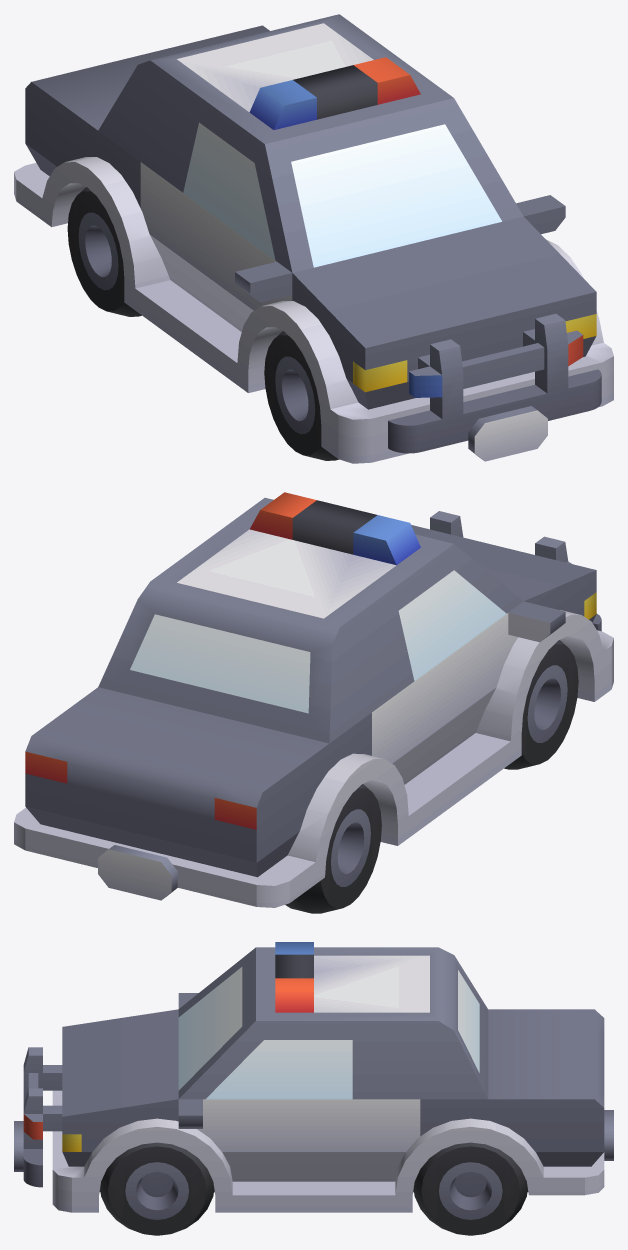
Rendered from kenney-police.glb.
3 renders of one model, top to bottom at view 1: azimuth 30°, elevation 25°; view 2: azimuth 150°, elevation 25°; view 3: azimuth 270°, elevation 25°, orthographic. The views are drawn at different scales.
Visible parts, largest first — view 1: wheel-back-left; view 2: wheel-back-left; view 3: wheel-back-left.
Part boxes in pixels (x1,y1,x2,y2): wheel-back-left: (14, 14, 613, 463); wheel-back-left: (14, 492, 613, 913); wheel-back-left: (14, 942, 613, 1235).
Size of the model in its own units: 1.5 by 1.3 by 3.1.
Materials: 1 (1 with a texture image).
